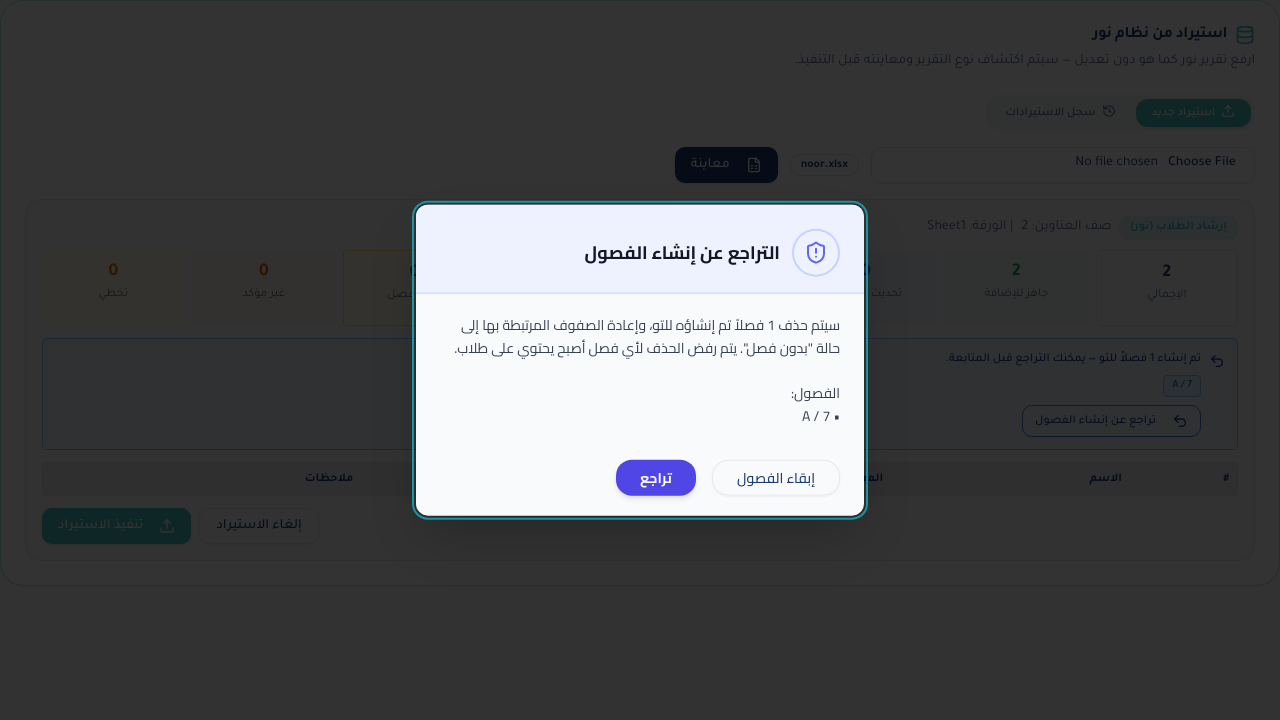
Test case: NoorImportPanel inline class-detail editor (Task #390) › undo-created-classes banner appears, POSTs class_ids, and disappears after success
Earlier steps of the test are not shown.
What coordinates should you click on to do the following:
click the button "تراجع"
I would click on:
 (656, 477)
Its box is [616,459,696,495].
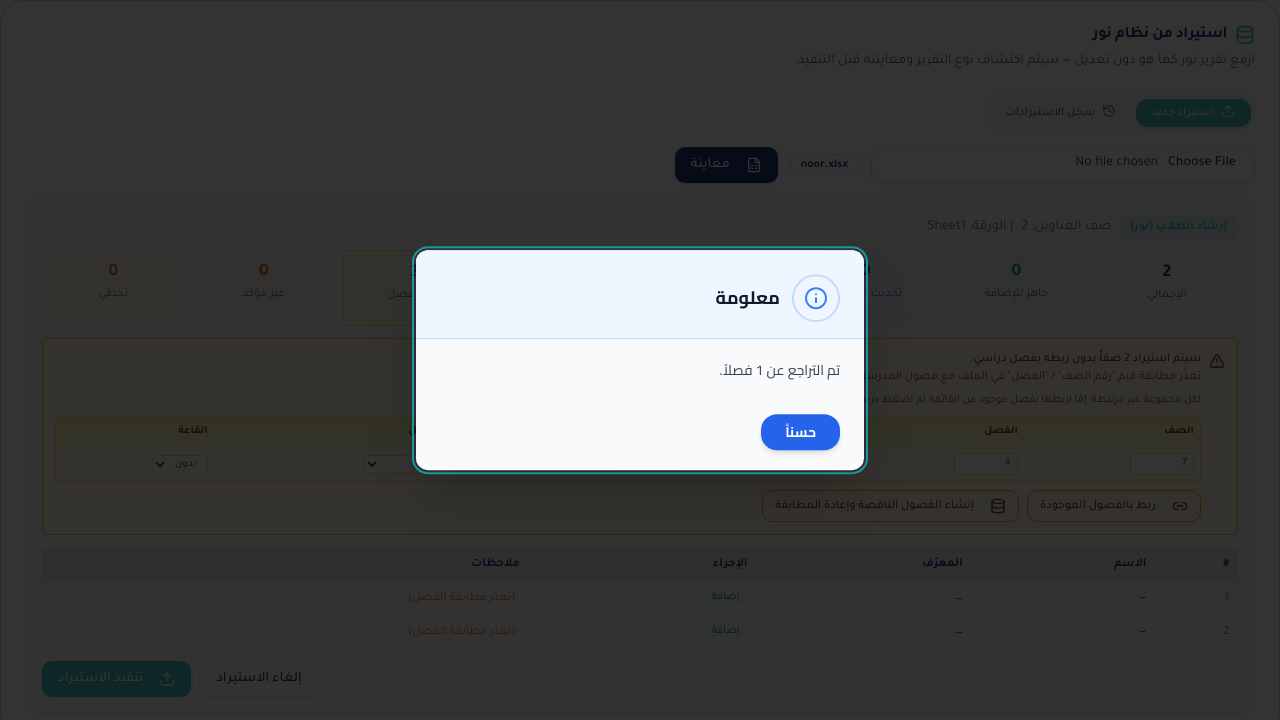
Now the element with test id "undo-created-classes-banner" is gone
